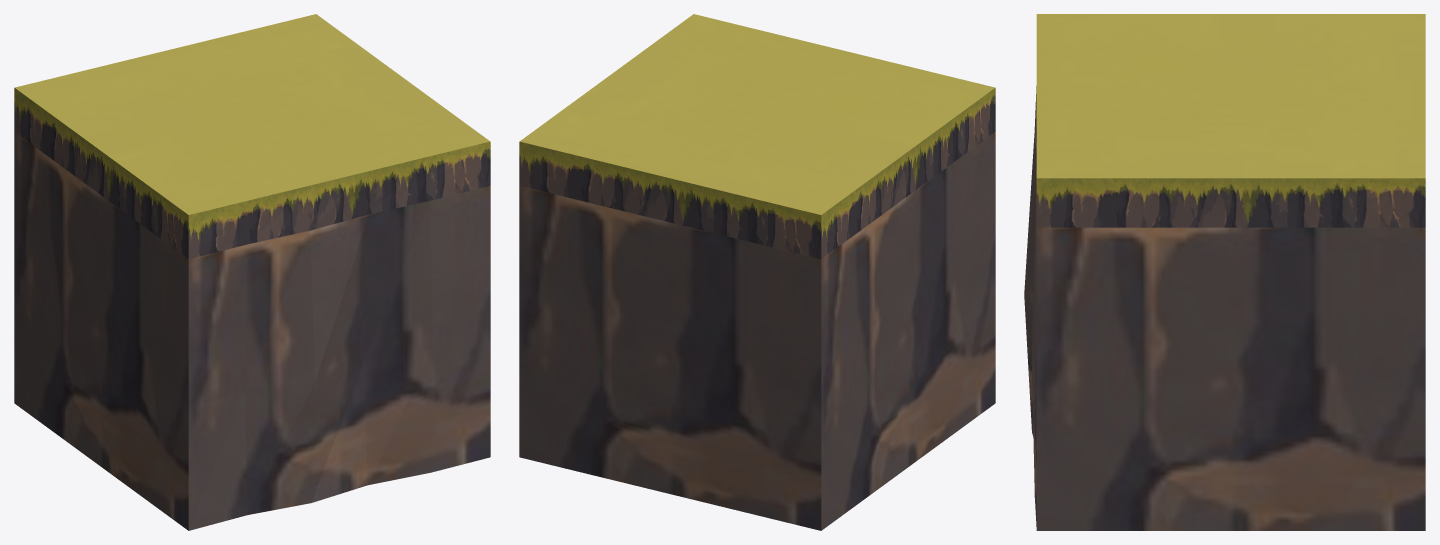
File: SM_RC_Terrain_IslandEdge_Straight_8m.gltf
3 views of the same model, side by side, from view 1: azimuth 30°, elevation 25°; view 2: azimuth 150°, elevation 25°; view 3: azimuth 270°, elevation 25° (orthographic). The views are drawn at different scales.
Visible parts, largest first — view 1: SM_RC_Terrain_IslandEdge_Straight_8m; view 2: SM_RC_Terrain_IslandEdge_Straight_8m; view 3: SM_RC_Terrain_IslandEdge_Straight_8m.
Part boxes in pixels (x1,y1,x2,y2): SM_RC_Terrain_IslandEdge_Straight_8m: [14, 14, 490, 530]; SM_RC_Terrain_IslandEdge_Straight_8m: [519, 14, 995, 530]; SM_RC_Terrain_IslandEdge_Straight_8m: [1024, 14, 1425, 530].
Bounding box in the file's own units: 8 × 8 × 8.26.
Materials: 1 (1 with a texture image).
